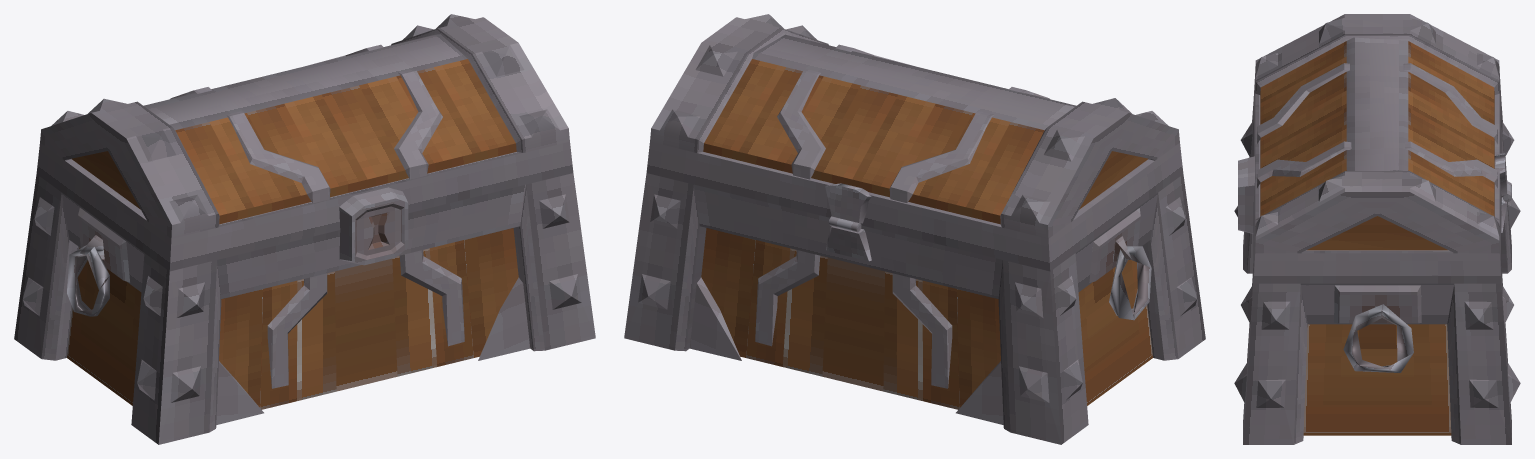
The model's file is chest-u_TrCEBT.glb.
The picture shows the model from 3 angles, left to right: view 1: azimuth 30°, elevation 25°; view 2: azimuth 150°, elevation 25°; view 3: azimuth 270°, elevation 25°; orthographic projection. The views are drawn at different scales.
Bounding box in the file's own units: 1.28 × 0.7113 × 0.7554.
Materials: 1 (1 with a texture image).
